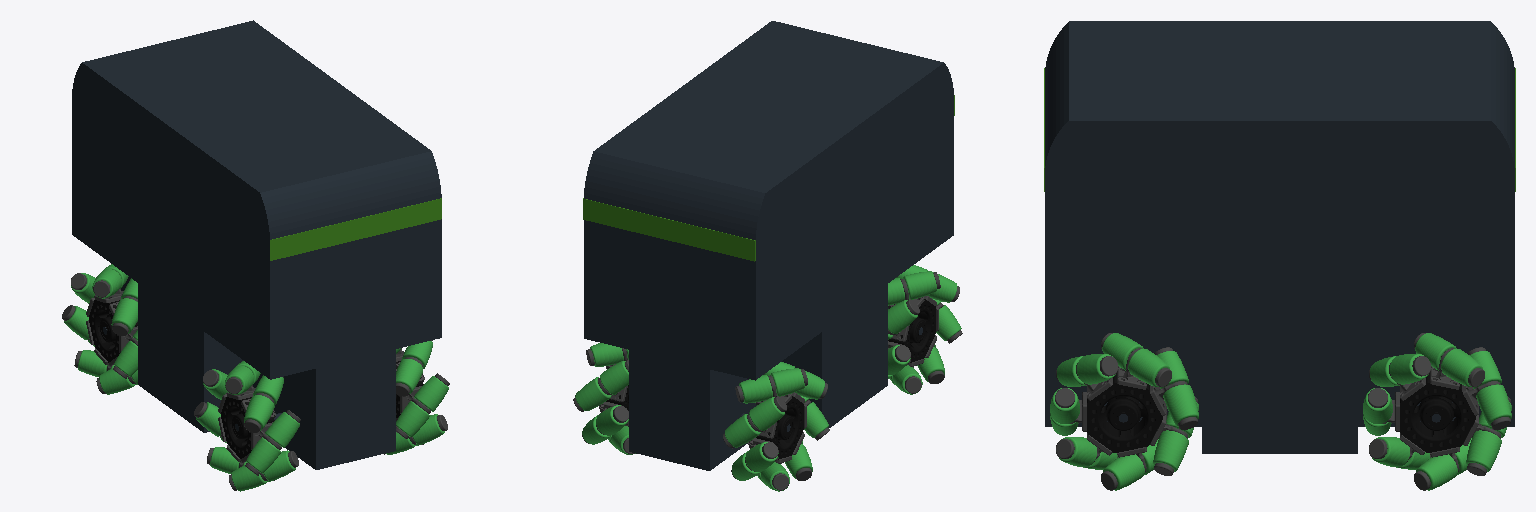
--- Render facts (derived) ---
The picture shows the robot from 3 angles, left to right: view 1: azimuth 30°, elevation 25°; view 2: azimuth 150°, elevation 25°; view 3: azimuth 270°, elevation 25°; orthographic projection.
Model agv with 2 links and 1 joints (1 fixed), rooted at part_1, posed every joint at zero.
Visible links, largest first — view 1: part_1; view 2: part_1; view 3: part_1.
Link boxes in pixels (x1,y1,x2,y2): part_1: (62,20,449,491); part_1: (573,21,962,491); part_1: (1044,21,1515,490).
Bounding box of the posed robot: 0.3536 × 0.6021 × 0.5161 m (x, y, z).
Meshes: 5 distinct files referenced, 91 mesh visuals loaded (5 binary STL).

URDF robot description (agv):
<?xml version="1.0"?>
<robot name="agv">
<link name="part_1">
<visual>
<origin xyz="0.279374 0.506048 0.0846503" rpy="0 -2.22045e-16 0" />
<geometry>
<mesh filename="package://hc10_with_hand/meshes/agv/ow1_mainwheel.stl"/>
</geometry>
<material name="ow1_mainwheel_material">
<color rgba="0.101961 0.101961 0.101961 1.0"/>
</material>
</visual>
<collision>
<origin xyz="0.279374 0.506048 0.0846503" rpy="0 -2.22045e-16 0" />
<geometry>
<mesh filename="package://hc10_with_hand/meshes/agv/ow1_mainwheel.stl"/>
</geometry>
<material name="ow1_mainwheel_material">
<color rgba="0.101961 0.101961 0.101961 1.0"/>
</material>
</collision>
<visual>
<origin xyz="0.0190616 0.147628 0.104674" rpy="1.5708 1.122 1.5708" />
<geometry>
<mesh filename="package://hc10_with_hand/meshes/agv/ow1_subaxle.stl"/>
</geometry>
<material name="ow1_subaxle_material">
<color rgba="0.301961 0.301961 0.301961 1.0"/>
</material>
</visual>
<collision>
<origin xyz="0.0190616 0.147628 0.104674" rpy="1.5708 1.122 1.5708" />
<geometry>
<mesh filename="package://hc10_with_hand/meshes/agv/ow1_subaxle.stl"/>
</geometry>
<material name="ow1_subaxle_material">
<color rgba="0.301961 0.301961 0.301961 1.0"/>
</material>
</collision>
<visual>
<origin xyz="0.00689419 0.431336 0.0724829" rpy="6.43508e-15 0.785398 -3.14159" />
<geometry>
<mesh filename="package://hc10_with_hand/meshes/agv/ow1_roller.stl"/>
</geometry>
<material name="ow1_roller_material">
<color rgba="0.286275 0.662745 0.329412 1.0"/>
</material>
</visual>
<collision>
<origin xyz="0.00689419 0.431336 0.0724829" rpy="6.43508e-15 0.785398 -3.14159" />
<geometry>
<mesh filename="package://hc10_with_hand/meshes/agv/ow1_roller.stl"/>
</geometry>
<material name="ow1_roller_material">
<color rgba="0.286275 0.662745 0.329412 1.0"/>
</material>
</collision>
<visual>
<origin xyz="0.279374 0.116318 0.0396567" rpy="-1.5708 -0.224399 1.5708" />
<geometry>
<mesh filename="package://hc10_with_hand/meshes/agv/ow1_subaxle.stl"/>
</geometry>
<material name="ow1_subaxle_material">
<color rgba="0.301961 0.301961 0.301961 1.0"/>
</material>
</visual>
<collision>
<origin xyz="0.279374 0.116318 0.0396567" rpy="-1.5708 -0.224399 1.5708" />
<geometry>
<mesh filename="package://hc10_with_hand/meshes/agv/ow1_subaxle.stl"/>
</geometry>
<material name="ow1_subaxle_material">
<color rgba="0.301961 0.301961 0.301961 1.0"/>
</material>
</collision>
<visual>
<origin xyz="0.00689419 0.0689786 0.0186516" rpy="-1.05734 0.456572 2.47803" />
<geometry>
<mesh filename="package://hc10_with_hand/meshes/agv/ow1_roller.stl"/>
</geometry>
<material name="ow1_roller_material">
<color rgba="0.286275 0.662745 0.329412 1.0"/>
</material>
</visual>
<collision>
<origin xyz="0.00689419 0.0689786 0.0186516" rpy="-1.05734 0.456572 2.47803" />
<geometry>
<mesh filename="package://hc10_with_hand/meshes/agv/ow1_roller.stl"/>
</geometry>
<material name="ow1_roller_material">
<color rgba="0.286275 0.662745 0.329412 1.0"/>
</material>
</collision>
<visual>
<origin xyz="0.031229 0.468979 0.150649" rpy="2.08425 -0.456572 0.663564" />
<geometry>
<mesh filename="package://hc10_with_hand/meshes/agv/ow1_roller.stl"/>
</geometry>
<material name="ow1_roller_material">
<color rgba="0.286275 0.662745 0.329412 1.0"/>
</material>
</visual>
<collision>
<origin xyz="0.031229 0.468979 0.150649" rpy="2.08425 -0.456572 0.663564" />
<geometry>
<mesh filename="package://hc10_with_hand/meshes/agv/ow1_roller.stl"/>
</geometry>
<material name="ow1_roller_material">
<color rgba="0.286275 0.662745 0.329412 1.0"/>
</material>
</collision>
<visual>
<origin xyz="0.031229 0.578641 0.106104" rpy="0.597894 0.690706 0.409371" />
<geometry>
<mesh filename="package://hc10_with_hand/meshes/agv/ow1_roller.stl"/>
</geometry>
<material name="ow1_roller_material">
<color rgba="0.286275 0.662745 0.329412 1.0"/>
</material>
</visual>
<collision>
<origin xyz="0.031229 0.578641 0.106104" rpy="0.597894 0.690706 0.409371" />
<geometry>
<mesh filename="package://hc10_with_hand/meshes/agv/ow1_roller.stl"/>
</geometry>
<material name="ow1_roller_material">
<color rgba="0.286275 0.662745 0.329412 1.0"/>
</material>
</collision>
<visual>
<origin xyz="0.267207 0.110811 0.160197" rpy="1.73081 -0.158003 -2.36889" />
<geometry>
<mesh filename="package://hc10_with_hand/meshes/agv/ow1_roller.stl"/>
</geometry>
<material name="ow1_roller_material">
<color rgba="0.286275 0.662745 0.329412 1.0"/>
</material>
</visual>
<collision>
<origin xyz="0.267207 0.110811 0.160197" rpy="1.73081 -0.158003 -2.36889" />
<geometry>
<mesh filename="package://hc10_with_hand/meshes/agv/ow1_roller.stl"/>
</geometry>
<material name="ow1_roller_material">
<color rgba="0.286275 0.662745 0.329412 1.0"/>
</material>
</collision>
<visual>
<origin xyz="0.0190616 0.116318 0.0396567" rpy="-1.5708 -0.224399 1.5708" />
<geometry>
<mesh filename="package://hc10_with_hand/meshes/agv/ow1_subaxle.stl"/>
</geometry>
<material name="ow1_subaxle_material">
<color rgba="0.301961 0.301961 0.301961 1.0"/>
</material>
</visual>
<collision>
<origin xyz="0.0190616 0.116318 0.0396567" rpy="-1.5708 -0.224399 1.5708" />
<geometry>
<mesh filename="package://hc10_with_hand/meshes/agv/ow1_subaxle.stl"/>
</geometry>
<material name="ow1_subaxle_material">
<color rgba="0.301961 0.301961 0.301961 1.0"/>
</material>
</collision>
<visual>
<origin xyz="0.0190616 0.506048 0.0846503" rpy="0 2.22045e-16 0" />
<geometry>
<mesh filename="package://hc10_with_hand/meshes/agv/ow1_mainwheel.stl"/>
</geometry>
<material name="ow1_mainwheel_material">
<color rgba="0.101961 0.101961 0.101961 1.0"/>
</material>
</visual>
<collision>
<origin xyz="0.0190616 0.506048 0.0846503" rpy="0 2.22045e-16 0" />
<geometry>
<mesh filename="package://hc10_with_hand/meshes/agv/ow1_mainwheel.stl"/>
</geometry>
<material name="ow1_mainwheel_material">
<color rgba="0.101961 0.101961 0.101961 1.0"/>
</material>
</collision>
<visual>
<origin xyz="0.031229 0.0499529 0.0338241" rpy="-2.08425 -0.456572 -0.663564" />
<geometry>
<mesh filename="package://hc10_with_hand/meshes/agv/ow1_roller.stl"/>
</geometry>
<material name="ow1_roller_material">
<color rgba="0.286275 0.662745 0.329412 1.0"/>
</material>
</visual>
<collision>
<origin xyz="0.031229 0.0499529 0.0338241" rpy="-2.08425 -0.456572 -0.663564" />
<geometry>
<mesh filename="package://hc10_with_hand/meshes/agv/ow1_roller.stl"/>
</geometry>
<material name="ow1_roller_material">
<color rgba="0.286275 0.662745 0.329412 1.0"/>
</material>
</collision>
<visual>
<origin xyz="0.031229 0.431336 0.0968177" rpy="-3.14159 -0.785398 -9.10058e-15" />
<geometry>
<mesh filename="package://hc10_with_hand/meshes/agv/ow1_roller.stl"/>
</geometry>
<material name="ow1_roller_material">
<color rgba="0.286275 0.662745 0.329412 1.0"/>
</material>
</visual>
<collision>
<origin xyz="0.031229 0.431336 0.0968177" rpy="-3.14159 -0.785398 -9.10058e-15" />
<geometry>
<mesh filename="package://hc10_with_hand/meshes/agv/ow1_roller.stl"/>
</geometry>
<material name="ow1_roller_material">
<color rgba="0.286275 0.662745 0.329412 1.0"/>
</material>
</collision>
<visual>
<origin xyz="0.00689419 0.110811 0.160197" rpy="1.73081 -0.158003 -2.36889" />
<geometry>
<mesh filename="package://hc10_with_hand/meshes/agv/ow1_roller.stl"/>
</geometry>
<material name="ow1_roller_material">
<color rgba="0.286275 0.662745 0.329412 1.0"/>
</material>
</visual>
<collision>
<origin xyz="0.00689419 0.110811 0.160197" rpy="1.73081 -0.158003 -2.36889" />
<geometry>
<mesh filename="package://hc10_with_hand/meshes/agv/ow1_roller.stl"/>
</geometry>
<material name="ow1_roller_material">
<color rgba="0.286275 0.662745 0.329412 1.0"/>
</material>
</collision>
<visual>
<origin xyz="0.291541 0.0499529 0.0338241" rpy="-2.08425 -0.456572 -0.663564" />
<geometry>
<mesh filename="package://hc10_with_hand/meshes/agv/ow1_roller.stl"/>
</geometry>
<material name="ow1_roller_material">
<color rgba="0.286275 0.662745 0.329412 1.0"/>
</material>
</visual>
<collision>
<origin xyz="0.291541 0.0499529 0.0338241" rpy="-2.08425 -0.456572 -0.663564" />
<geometry>
<mesh filename="package://hc10_with_hand/meshes/agv/ow1_roller.stl"/>
</geometry>
<material name="ow1_roller_material">
<color rgba="0.286275 0.662745 0.329412 1.0"/>
</material>
</collision>
<visual>
<origin xyz="0.0190616 0.147628 0.0646263" rpy="-1.5708 1.122 -1.5708" />
<geometry>
<mesh filename="package://hc10_with_hand/meshes/agv/ow1_subaxle.stl"/>
</geometry>
<material name="ow1_subaxle_material">
<color rgba="0.301961 0.301961 0.301961 1.0"/>
</material>
</visual>
<collision>
<origin xyz="0.0190616 0.147628 0.0646263" rpy="-1.5708 1.122 -1.5708" />
<geometry>
<mesh filename="package://hc10_with_hand/meshes/agv/ow1_subaxle.stl"/>
</geometry>
<material name="ow1_subaxle_material">
<color rgba="0.301961 0.301961 0.301961 1.0"/>
</material>
</collision>
<visual>
<origin xyz="0.279374 0.147628 0.104674" rpy="1.5708 1.122 1.5708" />
<geometry>
<mesh filename="package://hc10_with_hand/meshes/agv/ow1_subaxle.stl"/>
</geometry>
<material name="ow1_subaxle_material">
<color rgba="0.301961 0.301961 0.301961 1.0"/>
</material>
</visual>
<collision>
<origin xyz="0.279374 0.147628 0.104674" rpy="1.5708 1.122 1.5708" />
<geometry>
<mesh filename="package://hc10_with_hand/meshes/agv/ow1_subaxle.stl"/>
</geometry>
<material name="ow1_subaxle_material">
<color rgba="0.301961 0.301961 0.301961 1.0"/>
</material>
</collision>
<visual>
<origin xyz="0.00689419 0.168082 0.128029" rpy="2.5437 -0.690706 -2.73222" />
<geometry>
<mesh filename="package://hc10_with_hand/meshes/agv/ow1_roller.stl"/>
</geometry>
<material name="ow1_roller_material">
<color rgba="0.286275 0.662745 0.329412 1.0"/>
</material>
</visual>
<collision>
<origin xyz="0.00689419 0.168082 0.128029" rpy="2.5437 -0.690706 -2.73222" />
<geometry>
<mesh filename="package://hc10_with_hand/meshes/agv/ow1_roller.stl"/>
</geometry>
<material name="ow1_roller_material">
<color rgba="0.286275 0.662745 0.329412 1.0"/>
</material>
</collision>
<visual>
<origin xyz="0.267207 0.134536 0.0145187" rpy="-1.73081 -0.158003 2.36889" />
<geometry>
<mesh filename="package://hc10_with_hand/meshes/agv/ow1_roller.stl"/>
</geometry>
<material name="ow1_roller_material">
<color rgba="0.286275 0.662745 0.329412 1.0"/>
</material>
</visual>
<collision>
<origin xyz="0.267207 0.134536 0.0145187" rpy="-1.73081 -0.158003 2.36889" />
<geometry>
<mesh filename="package://hc10_with_hand/meshes/agv/ow1_roller.stl"/>
</geometry>
<material name="ow1_roller_material">
<color rgba="0.286275 0.662745 0.329412 1.0"/>
</material>
</collision>
<visual>
<origin xyz="0.291541 0.431336 0.0968177" rpy="-3.14159 -0.785398 -9.10058e-15" />
<geometry>
<mesh filename="package://hc10_with_hand/meshes/agv/ow1_roller.stl"/>
</geometry>
<material name="ow1_roller_material">
<color rgba="0.286275 0.662745 0.329412 1.0"/>
</material>
</visual>
<collision>
<origin xyz="0.291541 0.431336 0.0968177" rpy="-3.14159 -0.785398 -9.10058e-15" />
<geometry>
<mesh filename="package://hc10_with_hand/meshes/agv/ow1_roller.stl"/>
</geometry>
<material name="ow1_roller_material">
<color rgba="0.286275 0.662745 0.329412 1.0"/>
</material>
</collision>
<visual>
<origin xyz="0.0190616 0.477274 0.120732" rpy="1.5708 0.673198 -1.5708" />
<geometry>
<mesh filename="package://hc10_with_hand/meshes/agv/ow1_subaxle.stl"/>
</geometry>
<material name="ow1_subaxle_material">
<color rgba="0.301961 0.301961 0.301961 1.0"/>
</material>
</visual>
<collision>
<origin xyz="0.0190616 0.477274 0.120732" rpy="1.5708 0.673198 -1.5708" />
<geometry>
<mesh filename="package://hc10_with_hand/meshes/agv/ow1_subaxle.stl"/>
</geometry>
<material name="ow1_subaxle_material">
<color rgba="0.301961 0.301961 0.301961 1.0"/>
</material>
</collision>
<visual>
<origin xyz="0.149218 0.00604812 0.00465032" rpy="0 -0 0" />
<geometry>
<mesh filename="package://hc10_with_hand/meshes/agv/part_1.stl"/>
</geometry>
<material name="part_1_material">
<color rgba="0.180392 0.215686 0.247059 1.0"/>
</material>
</visual>
<collision>
<origin xyz="0.149218 0.00604812 0.00465032" rpy="0 -0 0" />
<geometry>
<mesh filename="package://hc10_with_hand/meshes/agv/part_1.stl"/>
</geometry>
<material name="part_1_material">
<color rgba="0.180392 0.215686 0.247059 1.0"/>
</material>
</collision>
<visual>
<origin xyz="0.267207 0.168082 0.128029" rpy="2.5437 -0.690706 -2.73222" />
<geometry>
<mesh filename="package://hc10_with_hand/meshes/agv/ow1_roller.stl"/>
</geometry>
<material name="ow1_roller_material">
<color rgba="0.286275 0.662745 0.329412 1.0"/>
</material>
</visual>
<collision>
<origin xyz="0.267207 0.168082 0.128029" rpy="2.5437 -0.690706 -2.73222" />
<geometry>
<mesh filename="package://hc10_with_hand/meshes/agv/ow1_roller.stl"/>
</geometry>
<material name="ow1_roller_material">
<color rgba="0.286275 0.662745 0.329412 1.0"/>
</material>
</collision>
<visual>
<origin xyz="0.0190616 0.516318 0.129644" rpy="1.5708 0.224399 1.5708" />
<geometry>
<mesh filename="package://hc10_with_hand/meshes/agv/ow1_subaxle.stl"/>
</geometry>
<material name="ow1_subaxle_material">
<color rgba="0.301961 0.301961 0.301961 1.0"/>
</material>
</visual>
<collision>
<origin xyz="0.0190616 0.516318 0.129644" rpy="1.5708 0.224399 1.5708" />
<geometry>
<mesh filename="package://hc10_with_hand/meshes/agv/ow1_subaxle.stl"/>
</geometry>
<material name="ow1_subaxle_material">
<color rgba="0.301961 0.301961 0.301961 1.0"/>
</material>
</collision>
<visual>
<origin xyz="0.031229 0.534536 0.154782" rpy="1.41078 0.158003 0.772704" />
<geometry>
<mesh filename="package://hc10_with_hand/meshes/agv/ow1_roller.stl"/>
</geometry>
<material name="ow1_roller_material">
<color rgba="0.286275 0.662745 0.329412 1.0"/>
</material>
</visual>
<collision>
<origin xyz="0.031229 0.534536 0.154782" rpy="1.41078 0.158003 0.772704" />
<geometry>
<mesh filename="package://hc10_with_hand/meshes/agv/ow1_roller.stl"/>
</geometry>
<material name="ow1_roller_material">
<color rgba="0.286275 0.662745 0.329412 1.0"/>
</material>
</collision>
<visual>
<origin xyz="0.00689419 0.449953 0.135477" rpy="1.05734 0.456572 -2.47803" />
<geometry>
<mesh filename="package://hc10_with_hand/meshes/agv/ow1_roller.stl"/>
</geometry>
<material name="ow1_roller_material">
<color rgba="0.286275 0.662745 0.329412 1.0"/>
</material>
</visual>
<collision>
<origin xyz="0.00689419 0.449953 0.135477" rpy="1.05734 0.456572 -2.47803" />
<geometry>
<mesh filename="package://hc10_with_hand/meshes/agv/ow1_roller.stl"/>
</geometry>
<material name="ow1_roller_material">
<color rgba="0.286275 0.662745 0.329412 1.0"/>
</material>
</collision>
<visual>
<origin xyz="0.00689419 0.578641 0.0631963" rpy="-2.5437 -0.690706 2.73222" />
<geometry>
<mesh filename="package://hc10_with_hand/meshes/agv/ow1_roller.stl"/>
</geometry>
<material name="ow1_roller_material">
<color rgba="0.286275 0.662745 0.329412 1.0"/>
</material>
</visual>
<collision>
<origin xyz="0.00689419 0.578641 0.0631963" rpy="-2.5437 -0.690706 2.73222" />
<geometry>
<mesh filename="package://hc10_with_hand/meshes/agv/ow1_roller.stl"/>
</geometry>
<material name="ow1_roller_material">
<color rgba="0.286275 0.662745 0.329412 1.0"/>
</material>
</collision>
<visual>
<origin xyz="0.267207 0.578641 0.0631963" rpy="-2.5437 -0.690706 2.73222" />
<geometry>
<mesh filename="package://hc10_with_hand/meshes/agv/ow1_roller.stl"/>
</geometry>
<material name="ow1_roller_material">
<color rgba="0.286275 0.662745 0.329412 1.0"/>
</material>
</visual>
<collision>
<origin xyz="0.267207 0.578641 0.0631963" rpy="-2.5437 -0.690706 2.73222" />
<geometry>
<mesh filename="package://hc10_with_hand/meshes/agv/ow1_roller.stl"/>
</geometry>
<material name="ow1_roller_material">
<color rgba="0.286275 0.662745 0.329412 1.0"/>
</material>
</collision>
<visual>
<origin xyz="0.267207 0.449953 0.135477" rpy="1.05734 0.456572 -2.47803" />
<geometry>
<mesh filename="package://hc10_with_hand/meshes/agv/ow1_roller.stl"/>
</geometry>
<material name="ow1_roller_material">
<color rgba="0.286275 0.662745 0.329412 1.0"/>
</material>
</visual>
<collision>
<origin xyz="0.267207 0.449953 0.135477" rpy="1.05734 0.456572 -2.47803" />
<geometry>
<mesh filename="package://hc10_with_hand/meshes/agv/ow1_roller.stl"/>
</geometry>
<material name="ow1_roller_material">
<color rgba="0.286275 0.662745 0.329412 1.0"/>
</material>
</collision>
<visual>
<origin xyz="0.267207 0.431336 0.0724829" rpy="6.43508e-15 0.785398 -3.14159" />
<geometry>
<mesh filename="package://hc10_with_hand/meshes/agv/ow1_roller.stl"/>
</geometry>
<material name="ow1_roller_material">
<color rgba="0.286275 0.662745 0.329412 1.0"/>
</material>
</visual>
<collision>
<origin xyz="0.267207 0.431336 0.0724829" rpy="6.43508e-15 0.785398 -3.14159" />
<geometry>
<mesh filename="package://hc10_with_hand/meshes/agv/ow1_roller.stl"/>
</geometry>
<material name="ow1_roller_material">
<color rgba="0.286275 0.662745 0.329412 1.0"/>
</material>
</collision>
<visual>
<origin xyz="0.291541 0.534536 0.154782" rpy="1.41078 0.158003 0.772704" />
<geometry>
<mesh filename="package://hc10_with_hand/meshes/agv/ow1_roller.stl"/>
</geometry>
<material name="ow1_roller_material">
<color rgba="0.286275 0.662745 0.329412 1.0"/>
</material>
</visual>
<collision>
<origin xyz="0.291541 0.534536 0.154782" rpy="1.41078 0.158003 0.772704" />
<geometry>
<mesh filename="package://hc10_with_hand/meshes/agv/ow1_roller.stl"/>
</geometry>
<material name="ow1_roller_material">
<color rgba="0.286275 0.662745 0.329412 1.0"/>
</material>
</collision>
<visual>
<origin xyz="0.149218 0.607148 0.00465032" rpy="0 -0 0" />
<geometry>
<mesh filename="package://hc10_with_hand/meshes/agv/part_2.stl"/>
</geometry>
<material name="part_2_material">
<color rgba="0.282353 0.54902 0.160784 1.0"/>
</material>
</visual>
<collision>
<origin xyz="0.149218 0.607148 0.00465032" rpy="0 -0 0" />
<geometry>
<mesh filename="package://hc10_with_hand/meshes/agv/part_2.stl"/>
</geometry>
<material name="part_2_material">
<color rgba="0.282353 0.54902 0.160784 1.0"/>
</material>
</collision>
<visual>
<origin xyz="0.279374 0.116318 0.129644" rpy="1.5708 0.224399 1.5708" />
<geometry>
<mesh filename="package://hc10_with_hand/meshes/agv/ow1_subaxle.stl"/>
</geometry>
<material name="ow1_subaxle_material">
<color rgba="0.301961 0.301961 0.301961 1.0"/>
</material>
</visual>
<collision>
<origin xyz="0.279374 0.116318 0.129644" rpy="1.5708 0.224399 1.5708" />
<geometry>
<mesh filename="package://hc10_with_hand/meshes/agv/ow1_subaxle.stl"/>
</geometry>
<material name="ow1_subaxle_material">
<color rgba="0.301961 0.301961 0.301961 1.0"/>
</material>
</collision>
<visual>
<origin xyz="0.279374 0.477274 0.120732" rpy="1.5708 0.673198 -1.5708" />
<geometry>
<mesh filename="package://hc10_with_hand/meshes/agv/ow1_subaxle.stl"/>
</geometry>
<material name="ow1_subaxle_material">
<color rgba="0.301961 0.301961 0.301961 1.0"/>
</material>
</visual>
<collision>
<origin xyz="0.279374 0.477274 0.120732" rpy="1.5708 0.673198 -1.5708" />
<geometry>
<mesh filename="package://hc10_with_hand/meshes/agv/ow1_subaxle.stl"/>
</geometry>
<material name="ow1_subaxle_material">
<color rgba="0.301961 0.301961 0.301961 1.0"/>
</material>
</collision>
<visual>
<origin xyz="0.031229 0.0313358 0.0968177" rpy="-3.14159 -0.785398 -9.10058e-15" />
<geometry>
<mesh filename="package://hc10_with_hand/meshes/agv/ow1_roller.stl"/>
</geometry>
<material name="ow1_roller_material">
<color rgba="0.286275 0.662745 0.329412 1.0"/>
</material>
</visual>
<collision>
<origin xyz="0.031229 0.0313358 0.0968177" rpy="-3.14159 -0.785398 -9.10058e-15" />
<geometry>
<mesh filename="package://hc10_with_hand/meshes/agv/ow1_roller.stl"/>
</geometry>
<material name="ow1_roller_material">
<color rgba="0.286275 0.662745 0.329412 1.0"/>
</material>
</collision>
<visual>
<origin xyz="0.0190616 0.547628 0.0646263" rpy="-1.5708 1.122 -1.5708" />
<geometry>
<mesh filename="package://hc10_with_hand/meshes/agv/ow1_subaxle.stl"/>
</geometry>
<material name="ow1_subaxle_material">
<color rgba="0.301961 0.301961 0.301961 1.0"/>
</material>
</visual>
<collision>
<origin xyz="0.0190616 0.547628 0.0646263" rpy="-1.5708 1.122 -1.5708" />
<geometry>
<mesh filename="package://hc10_with_hand/meshes/agv/ow1_subaxle.stl"/>
</geometry>
<material name="ow1_subaxle_material">
<color rgba="0.301961 0.301961 0.301961 1.0"/>
</material>
</collision>
<visual>
<origin xyz="0.031229 0.110811 0.00910365" rpy="-1.41078 0.158003 -0.772704" />
<geometry>
<mesh filename="package://hc10_with_hand/meshes/agv/ow1_roller.stl"/>
</geometry>
<material name="ow1_roller_material">
<color rgba="0.286275 0.662745 0.329412 1.0"/>
</material>
</visual>
<collision>
<origin xyz="0.031229 0.110811 0.00910365" rpy="-1.41078 0.158003 -0.772704" />
<geometry>
<mesh filename="package://hc10_with_hand/meshes/agv/ow1_roller.stl"/>
</geometry>
<material name="ow1_roller_material">
<color rgba="0.286275 0.662745 0.329412 1.0"/>
</material>
</collision>
<visual>
<origin xyz="0.291541 0.134536 0.154782" rpy="1.41078 0.158003 0.772704" />
<geometry>
<mesh filename="package://hc10_with_hand/meshes/agv/ow1_roller.stl"/>
</geometry>
<material name="ow1_roller_material">
<color rgba="0.286275 0.662745 0.329412 1.0"/>
</material>
</visual>
<collision>
<origin xyz="0.291541 0.134536 0.154782" rpy="1.41078 0.158003 0.772704" />
<geometry>
<mesh filename="package://hc10_with_hand/meshes/agv/ow1_roller.stl"/>
</geometry>
<material name="ow1_roller_material">
<color rgba="0.286275 0.662745 0.329412 1.0"/>
</material>
</collision>
<visual>
<origin xyz="0.031229 0.0689786 0.150649" rpy="2.08425 -0.456572 0.663564" />
<geometry>
<mesh filename="package://hc10_with_hand/meshes/agv/ow1_roller.stl"/>
</geometry>
<material name="ow1_roller_material">
<color rgba="0.286275 0.662745 0.329412 1.0"/>
</material>
</visual>
<collision>
<origin xyz="0.031229 0.0689786 0.150649" rpy="2.08425 -0.456572 0.663564" />
<geometry>
<mesh filename="package://hc10_with_hand/meshes/agv/ow1_roller.stl"/>
</geometry>
<material name="ow1_roller_material">
<color rgba="0.286275 0.662745 0.329412 1.0"/>
</material>
</collision>
<visual>
<origin xyz="0.00689419 0.0313358 0.0724829" rpy="6.43508e-15 0.785398 -3.14159" />
<geometry>
<mesh filename="package://hc10_with_hand/meshes/agv/ow1_roller.stl"/>
</geometry>
<material name="ow1_roller_material">
<color rgba="0.286275 0.662745 0.329412 1.0"/>
</material>
</visual>
<collision>
<origin xyz="0.00689419 0.0313358 0.0724829" rpy="6.43508e-15 0.785398 -3.14159" />
<geometry>
<mesh filename="package://hc10_with_hand/meshes/agv/ow1_roller.stl"/>
</geometry>
<material name="ow1_roller_material">
<color rgba="0.286275 0.662745 0.329412 1.0"/>
</material>
</collision>
<visual>
<origin xyz="0.291541 0.110811 0.00910365" rpy="-1.41078 0.158003 -0.772704" />
<geometry>
<mesh filename="package://hc10_with_hand/meshes/agv/ow1_roller.stl"/>
</geometry>
<material name="ow1_roller_material">
<color rgba="0.286275 0.662745 0.329412 1.0"/>
</material>
</visual>
<collision>
<origin xyz="0.291541 0.110811 0.00910365" rpy="-1.41078 0.158003 -0.772704" />
<geometry>
<mesh filename="package://hc10_with_hand/meshes/agv/ow1_roller.stl"/>
</geometry>
<material name="ow1_roller_material">
<color rgba="0.286275 0.662745 0.329412 1.0"/>
</material>
</collision>
<visual>
<origin xyz="0.0190616 0.477274 0.0485683" rpy="-1.5708 -0.673198 -1.5708" />
<geometry>
<mesh filename="package://hc10_with_hand/meshes/agv/ow1_subaxle.stl"/>
</geometry>
<material name="ow1_subaxle_material">
<color rgba="0.301961 0.301961 0.301961 1.0"/>
</material>
</visual>
<collision>
<origin xyz="0.0190616 0.477274 0.0485683" rpy="-1.5708 -0.673198 -1.5708" />
<geometry>
<mesh filename="package://hc10_with_hand/meshes/agv/ow1_subaxle.stl"/>
</geometry>
<material name="ow1_subaxle_material">
<color rgba="0.301961 0.301961 0.301961 1.0"/>
</material>
</collision>
<visual>
<origin xyz="0.267207 0.0689786 0.0186516" rpy="-1.05734 0.456572 2.47803" />
<geometry>
<mesh filename="package://hc10_with_hand/meshes/agv/ow1_roller.stl"/>
</geometry>
<material name="ow1_roller_material">
<color rgba="0.286275 0.662745 0.329412 1.0"/>
</material>
</visual>
<collision>
<origin xyz="0.267207 0.0689786 0.0186516" rpy="-1.05734 0.456572 2.47803" />
<geometry>
<mesh filename="package://hc10_with_hand/meshes/agv/ow1_roller.stl"/>
</geometry>
<material name="ow1_roller_material">
<color rgba="0.286275 0.662745 0.329412 1.0"/>
</material>
</collision>
<visual>
<origin xyz="0.279374 0.547628 0.104674" rpy="1.5708 1.122 1.5708" />
<geometry>
<mesh filename="package://hc10_with_hand/meshes/agv/ow1_subaxle.stl"/>
</geometry>
<material name="ow1_subaxle_material">
<color rgba="0.301961 0.301961 0.301961 1.0"/>
</material>
</visual>
<collision>
<origin xyz="0.279374 0.547628 0.104674" rpy="1.5708 1.122 1.5708" />
<geometry>
<mesh filename="package://hc10_with_hand/meshes/agv/ow1_subaxle.stl"/>
</geometry>
<material name="ow1_subaxle_material">
<color rgba="0.301961 0.301961 0.301961 1.0"/>
</material>
</collision>
<visual>
<origin xyz="0.267207 0.468979 0.0186516" rpy="-1.05734 0.456572 2.47803" />
<geometry>
<mesh filename="package://hc10_with_hand/meshes/agv/ow1_roller.stl"/>
</geometry>
<material name="ow1_roller_material">
<color rgba="0.286275 0.662745 0.329412 1.0"/>
</material>
</visual>
<collision>
<origin xyz="0.267207 0.468979 0.0186516" rpy="-1.05734 0.456572 2.47803" />
<geometry>
<mesh filename="package://hc10_with_hand/meshes/agv/ow1_roller.stl"/>
</geometry>
<material name="ow1_roller_material">
<color rgba="0.286275 0.662745 0.329412 1.0"/>
</material>
</collision>
<visual>
<origin xyz="0.291541 0.510811 0.00910365" rpy="-1.41078 0.158003 -0.772704" />
<geometry>
<mesh filename="package://hc10_with_hand/meshes/agv/ow1_roller.stl"/>
</geometry>
<material name="ow1_roller_material">
<color rgba="0.286275 0.662745 0.329412 1.0"/>
</material>
</visual>
<collision>
<origin xyz="0.291541 0.510811 0.00910365" rpy="-1.41078 0.158003 -0.772704" />
<geometry>
<mesh filename="package://hc10_with_hand/meshes/agv/ow1_roller.stl"/>
</geometry>
<material name="ow1_roller_material">
<color rgba="0.286275 0.662745 0.329412 1.0"/>
</material>
</collision>
<visual>
<origin xyz="0.031229 0.568082 0.0412714" rpy="-0.597894 0.690706 -0.409371" />
<geometry>
<mesh filename="package://hc10_with_hand/meshes/agv/ow1_roller.stl"/>
</geometry>
<material name="ow1_roller_material">
<color rgba="0.286275 0.662745 0.329412 1.0"/>
</material>
</visual>
<collision>
<origin xyz="0.031229 0.568082 0.0412714" rpy="-0.597894 0.690706 -0.409371" />
<geometry>
<mesh filename="package://hc10_with_hand/meshes/agv/ow1_roller.stl"/>
</geometry>
<material name="ow1_roller_material">
<color rgba="0.286275 0.662745 0.329412 1.0"/>
</material>
</collision>
<visual>
<origin xyz="0.0190616 0.516318 0.0396567" rpy="-1.5708 -0.224399 1.5708" />
<geometry>
<mesh filename="package://hc10_with_hand/meshes/agv/ow1_subaxle.stl"/>
</geometry>
<material name="ow1_subaxle_material">
<color rgba="0.301961 0.301961 0.301961 1.0"/>
</material>
</visual>
<collision>
<origin xyz="0.0190616 0.516318 0.0396567" rpy="-1.5708 -0.224399 1.5708" />
<geometry>
<mesh filename="package://hc10_with_hand/meshes/agv/ow1_subaxle.stl"/>
</geometry>
<material name="ow1_subaxle_material">
<color rgba="0.301961 0.301961 0.301961 1.0"/>
</material>
</collision>
<visual>
<origin xyz="0.291541 0.468979 0.150649" rpy="2.08425 -0.456572 0.663564" />
<geometry>
<mesh filename="package://hc10_with_hand/meshes/agv/ow1_roller.stl"/>
</geometry>
<material name="ow1_roller_material">
<color rgba="0.286275 0.662745 0.329412 1.0"/>
</material>
</visual>
<collision>
<origin xyz="0.291541 0.468979 0.150649" rpy="2.08425 -0.456572 0.663564" />
<geometry>
<mesh filename="package://hc10_with_hand/meshes/agv/ow1_roller.stl"/>
</geometry>
<material name="ow1_roller_material">
<color rgba="0.286275 0.662745 0.329412 1.0"/>
</material>
</collision>
<visual>
<origin xyz="0.291541 0.0689786 0.150649" rpy="2.08425 -0.456572 0.663564" />
<geometry>
<mesh filename="package://hc10_with_hand/meshes/agv/ow1_roller.stl"/>
</geometry>
<material name="ow1_roller_material">
<color rgba="0.286275 0.662745 0.329412 1.0"/>
</material>
</visual>
<collision>
<origin xyz="0.291541 0.0689786 0.150649" rpy="2.08425 -0.456572 0.663564" />
<geometry>
<mesh filename="package://hc10_with_hand/meshes/agv/ow1_roller.stl"/>
</geometry>
<material name="ow1_roller_material">
<color rgba="0.286275 0.662745 0.329412 1.0"/>
</material>
</collision>
<visual>
<origin xyz="0.0190616 0.459897 0.0846503" rpy="-3.14159 -1.5708 0" />
<geometry>
<mesh filename="package://hc10_with_hand/meshes/agv/ow1_subaxle.stl"/>
</geometry>
<material name="ow1_subaxle_material">
<color rgba="0.301961 0.301961 0.301961 1.0"/>
</material>
</visual>
<collision>
<origin xyz="0.0190616 0.459897 0.0846503" rpy="-3.14159 -1.5708 0" />
<geometry>
<mesh filename="package://hc10_with_hand/meshes/agv/ow1_subaxle.stl"/>
</geometry>
<material name="ow1_subaxle_material">
<color rgba="0.301961 0.301961 0.301961 1.0"/>
</material>
</collision>
<visual>
<origin xyz="0.00689419 0.534536 0.0145187" rpy="-1.73081 -0.158003 2.36889" />
<geometry>
<mesh filename="package://hc10_with_hand/meshes/agv/ow1_roller.stl"/>
</geometry>
<material name="ow1_roller_material">
<color rgba="0.286275 0.662745 0.329412 1.0"/>
</material>
</visual>
<collision>
<origin xyz="0.00689419 0.534536 0.0145187" rpy="-1.73081 -0.158003 2.36889" />
<geometry>
<mesh filename="package://hc10_with_hand/meshes/agv/ow1_roller.stl"/>
</geometry>
<material name="ow1_roller_material">
<color rgba="0.286275 0.662745 0.329412 1.0"/>
</material>
</collision>
<visual>
<origin xyz="0.279374 0.0772736 0.120732" rpy="1.5708 0.673198 -1.5708" />
<geometry>
<mesh filename="package://hc10_with_hand/meshes/agv/ow1_subaxle.stl"/>
</geometry>
<material name="ow1_subaxle_material">
<color rgba="0.301961 0.301961 0.301961 1.0"/>
</material>
</visual>
<collision>
<origin xyz="0.279374 0.0772736 0.120732" rpy="1.5708 0.673198 -1.5708" />
<geometry>
<mesh filename="package://hc10_with_hand/meshes/agv/ow1_subaxle.stl"/>
</geometry>
<material name="ow1_subaxle_material">
<color rgba="0.301961 0.301961 0.301961 1.0"/>
</material>
</collision>
<visual>
<origin xyz="0.267207 0.0499529 0.135477" rpy="1.05734 0.456572 -2.47803" />
<geometry>
<mesh filename="package://hc10_with_hand/meshes/agv/ow1_roller.stl"/>
</geometry>
<material name="ow1_roller_material">
<color rgba="0.286275 0.662745 0.329412 1.0"/>
</material>
</visual>
<collision>
<origin xyz="0.267207 0.0499529 0.135477" rpy="1.05734 0.456572 -2.47803" />
<geometry>
<mesh filename="package://hc10_with_hand/meshes/agv/ow1_roller.stl"/>
</geometry>
<material name="ow1_roller_material">
<color rgba="0.286275 0.662745 0.329412 1.0"/>
</material>
</collision>
<visual>
<origin xyz="0.00689419 0.0499529 0.135477" rpy="1.05734 0.456572 -2.47803" />
<geometry>
<mesh filename="package://hc10_with_hand/meshes/agv/ow1_roller.stl"/>
</geometry>
<material name="ow1_roller_material">
<color rgba="0.286275 0.662745 0.329412 1.0"/>
</material>
</visual>
<collision>
<origin xyz="0.00689419 0.0499529 0.135477" rpy="1.05734 0.456572 -2.47803" />
<geometry>
<mesh filename="package://hc10_with_hand/meshes/agv/ow1_roller.stl"/>
</geometry>
<material name="ow1_roller_material">
<color rgba="0.286275 0.662745 0.329412 1.0"/>
</material>
</collision>
<visual>
<origin xyz="0.00689419 0.178641 0.0631963" rpy="-2.5437 -0.690706 2.73222" />
<geometry>
<mesh filename="package://hc10_with_hand/meshes/agv/ow1_roller.stl"/>
</geometry>
<material name="ow1_roller_material">
<color rgba="0.286275 0.662745 0.329412 1.0"/>
</material>
</visual>
<collision>
<origin xyz="0.00689419 0.178641 0.0631963" rpy="-2.5437 -0.690706 2.73222" />
<geometry>
<mesh filename="package://hc10_with_hand/meshes/agv/ow1_roller.stl"/>
</geometry>
<material name="ow1_roller_material">
<color rgba="0.286275 0.662745 0.329412 1.0"/>
</material>
</collision>
<visual>
<origin xyz="0.0190616 0.0598974 0.0846503" rpy="-3.14159 -1.5708 0" />
<geometry>
<mesh filename="package://hc10_with_hand/meshes/agv/ow1_subaxle.stl"/>
</geometry>
<material name="ow1_subaxle_material">
<color rgba="0.301961 0.301961 0.301961 1.0"/>
</material>
</visual>
<collision>
<origin xyz="0.0190616 0.0598974 0.0846503" rpy="-3.14159 -1.5708 0" />
<geometry>
<mesh filename="package://hc10_with_hand/meshes/agv/ow1_subaxle.stl"/>
</geometry>
<material name="ow1_subaxle_material">
<color rgba="0.301961 0.301961 0.301961 1.0"/>
</material>
</collision>
<visual>
<origin xyz="0.279374 0.0598974 0.0846503" rpy="-3.14159 -1.5708 0" />
<geometry>
<mesh filename="package://hc10_with_hand/meshes/agv/ow1_subaxle.stl"/>
</geometry>
<material name="ow1_subaxle_material">
<color rgba="0.301961 0.301961 0.301961 1.0"/>
</material>
</visual>
<collision>
<origin xyz="0.279374 0.0598974 0.0846503" rpy="-3.14159 -1.5708 0" />
<geometry>
<mesh filename="package://hc10_with_hand/meshes/agv/ow1_subaxle.stl"/>
</geometry>
<material name="ow1_subaxle_material">
<color rgba="0.301961 0.301961 0.301961 1.0"/>
</material>
</collision>
<visual>
<origin xyz="0.267207 0.534536 0.0145187" rpy="-1.73081 -0.158003 2.36889" />
<geometry>
<mesh filename="package://hc10_with_hand/meshes/agv/ow1_roller.stl"/>
</geometry>
<material name="ow1_roller_material">
<color rgba="0.286275 0.662745 0.329412 1.0"/>
</material>
</visual>
<collision>
<origin xyz="0.267207 0.534536 0.0145187" rpy="-1.73081 -0.158003 2.36889" />
<geometry>
<mesh filename="package://hc10_with_hand/meshes/agv/ow1_roller.stl"/>
</geometry>
<material name="ow1_roller_material">
<color rgba="0.286275 0.662745 0.329412 1.0"/>
</material>
</collision>
<visual>
<origin xyz="0.0190616 0.0772736 0.120732" rpy="1.5708 0.673198 -1.5708" />
<geometry>
<mesh filename="package://hc10_with_hand/meshes/agv/ow1_subaxle.stl"/>
</geometry>
<material name="ow1_subaxle_material">
<color rgba="0.301961 0.301961 0.301961 1.0"/>
</material>
</visual>
<collision>
<origin xyz="0.0190616 0.0772736 0.120732" rpy="1.5708 0.673198 -1.5708" />
<geometry>
<mesh filename="package://hc10_with_hand/meshes/agv/ow1_subaxle.stl"/>
</geometry>
<material name="ow1_subaxle_material">
<color rgba="0.301961 0.301961 0.301961 1.0"/>
</material>
</collision>
<visual>
<origin xyz="0.00689419 0.510811 0.160197" rpy="1.73081 -0.158003 -2.36889" />
<geometry>
<mesh filename="package://hc10_with_hand/meshes/agv/ow1_roller.stl"/>
</geometry>
<material name="ow1_roller_material">
<color rgba="0.286275 0.662745 0.329412 1.0"/>
</material>
</visual>
<collision>
<origin xyz="0.00689419 0.510811 0.160197" rpy="1.73081 -0.158003 -2.36889" />
<geometry>
<mesh filename="package://hc10_with_hand/meshes/agv/ow1_roller.stl"/>
</geometry>
<material name="ow1_roller_material">
<color rgba="0.286275 0.662745 0.329412 1.0"/>
</material>
</collision>
<visual>
<origin xyz="0.031229 0.168082 0.0412714" rpy="-0.597894 0.690706 -0.409371" />
<geometry>
<mesh filename="package://hc10_with_hand/meshes/agv/ow1_roller.stl"/>
</geometry>
<material name="ow1_roller_material">
<color rgba="0.286275 0.662745 0.329412 1.0"/>
</material>
</visual>
<collision>
<origin xyz="0.031229 0.168082 0.0412714" rpy="-0.597894 0.690706 -0.409371" />
<geometry>
<mesh filename="package://hc10_with_hand/meshes/agv/ow1_roller.stl"/>
</geometry>
<material name="ow1_roller_material">
<color rgba="0.286275 0.662745 0.329412 1.0"/>
</material>
</collision>
<visual>
<origin xyz="0.031229 0.449953 0.0338241" rpy="-2.08425 -0.456572 -0.663564" />
<geometry>
<mesh filename="package://hc10_with_hand/meshes/agv/ow1_roller.stl"/>
</geometry>
<material name="ow1_roller_material">
<color rgba="0.286275 0.662745 0.329412 1.0"/>
</material>
</visual>
<collision>
<origin xyz="0.031229 0.449953 0.0338241" rpy="-2.08425 -0.456572 -0.663564" />
<geometry>
<mesh filename="package://hc10_with_hand/meshes/agv/ow1_roller.stl"/>
</geometry>
<material name="ow1_roller_material">
<color rgba="0.286275 0.662745 0.329412 1.0"/>
</material>
</collision>
<visual>
<origin xyz="0.267207 0.0313358 0.0724829" rpy="6.43508e-15 0.785398 -3.14159" />
<geometry>
<mesh filename="package://hc10_with_hand/meshes/agv/ow1_roller.stl"/>
</geometry>
<material name="ow1_roller_material">
<color rgba="0.286275 0.662745 0.329412 1.0"/>
</material>
</visual>
<collision>
<origin xyz="0.267207 0.0313358 0.0724829" rpy="6.43508e-15 0.785398 -3.14159" />
<geometry>
<mesh filename="package://hc10_with_hand/meshes/agv/ow1_roller.stl"/>
</geometry>
<material name="ow1_roller_material">
<color rgba="0.286275 0.662745 0.329412 1.0"/>
</material>
</collision>
<visual>
<origin xyz="0.279374 0.106048 0.0846503" rpy="0 -2.22045e-16 0" />
<geometry>
<mesh filename="package://hc10_with_hand/meshes/agv/ow1_mainwheel.stl"/>
</geometry>
<material name="ow1_mainwheel_material">
<color rgba="0.101961 0.101961 0.101961 1.0"/>
</material>
</visual>
<collision>
<origin xyz="0.279374 0.106048 0.0846503" rpy="0 -2.22045e-16 0" />
<geometry>
<mesh filename="package://hc10_with_hand/meshes/agv/ow1_mainwheel.stl"/>
</geometry>
<material name="ow1_mainwheel_material">
<color rgba="0.101961 0.101961 0.101961 1.0"/>
</material>
</collision>
<visual>
<origin xyz="0.291541 0.449953 0.0338241" rpy="-2.08425 -0.456572 -0.663564" />
<geometry>
<mesh filename="package://hc10_with_hand/meshes/agv/ow1_roller.stl"/>
</geometry>
<material name="ow1_roller_material">
<color rgba="0.286275 0.662745 0.329412 1.0"/>
</material>
</visual>
<collision>
<origin xyz="0.291541 0.449953 0.0338241" rpy="-2.08425 -0.456572 -0.663564" />
<geometry>
<mesh filename="package://hc10_with_hand/meshes/agv/ow1_roller.stl"/>
</geometry>
<material name="ow1_roller_material">
<color rgba="0.286275 0.662745 0.329412 1.0"/>
</material>
</collision>
<visual>
<origin xyz="0.0190616 0.0772736 0.0485683" rpy="-1.5708 -0.673198 -1.5708" />
<geometry>
<mesh filename="package://hc10_with_hand/meshes/agv/ow1_subaxle.stl"/>
</geometry>
<material name="ow1_subaxle_material">
<color rgba="0.301961 0.301961 0.301961 1.0"/>
</material>
</visual>
<collision>
<origin xyz="0.0190616 0.0772736 0.0485683" rpy="-1.5708 -0.673198 -1.5708" />
<geometry>
<mesh filename="package://hc10_with_hand/meshes/agv/ow1_subaxle.stl"/>
</geometry>
<material name="ow1_subaxle_material">
<color rgba="0.301961 0.301961 0.301961 1.0"/>
</material>
</collision>
<visual>
<origin xyz="0.267207 0.178641 0.0631963" rpy="-2.5437 -0.690706 2.73222" />
<geometry>
<mesh filename="package://hc10_with_hand/meshes/agv/ow1_roller.stl"/>
</geometry>
<material name="ow1_roller_material">
<color rgba="0.286275 0.662745 0.329412 1.0"/>
</material>
</visual>
<collision>
<origin xyz="0.267207 0.178641 0.0631963" rpy="-2.5437 -0.690706 2.73222" />
<geometry>
<mesh filename="package://hc10_with_hand/meshes/agv/ow1_roller.stl"/>
</geometry>
<material name="ow1_roller_material">
<color rgba="0.286275 0.662745 0.329412 1.0"/>
</material>
</collision>
<visual>
<origin xyz="0.267207 0.510811 0.160197" rpy="1.73081 -0.158003 -2.36889" />
<geometry>
<mesh filename="package://hc10_with_hand/meshes/agv/ow1_roller.stl"/>
</geometry>
<material name="ow1_roller_material">
<color rgba="0.286275 0.662745 0.329412 1.0"/>
</material>
</visual>
<collision>
<origin xyz="0.267207 0.510811 0.160197" rpy="1.73081 -0.158003 -2.36889" />
<geometry>
<mesh filename="package://hc10_with_hand/meshes/agv/ow1_roller.stl"/>
</geometry>
<material name="ow1_roller_material">
<color rgba="0.286275 0.662745 0.329412 1.0"/>
</material>
</collision>
<visual>
<origin xyz="0.00689419 0.568082 0.128029" rpy="2.5437 -0.690706 -2.73222" />
<geometry>
<mesh filename="package://hc10_with_hand/meshes/agv/ow1_roller.stl"/>
</geometry>
<material name="ow1_roller_material">
<color rgba="0.286275 0.662745 0.329412 1.0"/>
</material>
</visual>
<collision>
<origin xyz="0.00689419 0.568082 0.128029" rpy="2.5437 -0.690706 -2.73222" />
<geometry>
<mesh filename="package://hc10_with_hand/meshes/agv/ow1_roller.stl"/>
</geometry>
<material name="ow1_roller_material">
<color rgba="0.286275 0.662745 0.329412 1.0"/>
</material>
</collision>
<visual>
<origin xyz="0.267207 0.568082 0.128029" rpy="2.5437 -0.690706 -2.73222" />
<geometry>
<mesh filename="package://hc10_with_hand/meshes/agv/ow1_roller.stl"/>
</geometry>
<material name="ow1_roller_material">
<color rgba="0.286275 0.662745 0.329412 1.0"/>
</material>
</visual>
<collision>
<origin xyz="0.267207 0.568082 0.128029" rpy="2.5437 -0.690706 -2.73222" />
<geometry>
<mesh filename="package://hc10_with_hand/meshes/agv/ow1_roller.stl"/>
</geometry>
<material name="ow1_roller_material">
<color rgba="0.286275 0.662745 0.329412 1.0"/>
</material>
</collision>
<visual>
<origin xyz="0.291541 0.568082 0.0412714" rpy="-0.597894 0.690706 -0.409371" />
<geometry>
<mesh filename="package://hc10_with_hand/meshes/agv/ow1_roller.stl"/>
</geometry>
<material name="ow1_roller_material">
<color rgba="0.286275 0.662745 0.329412 1.0"/>
</material>
</visual>
<collision>
<origin xyz="0.291541 0.568082 0.0412714" rpy="-0.597894 0.690706 -0.409371" />
<geometry>
<mesh filename="package://hc10_with_hand/meshes/agv/ow1_roller.stl"/>
</geometry>
<material name="ow1_roller_material">
<color rgba="0.286275 0.662745 0.329412 1.0"/>
</material>
</collision>
<visual>
<origin xyz="0.279374 0.516318 0.129644" rpy="1.5708 0.224399 1.5708" />
<geometry>
<mesh filename="package://hc10_with_hand/meshes/agv/ow1_subaxle.stl"/>
</geometry>
<material name="ow1_subaxle_material">
<color rgba="0.301961 0.301961 0.301961 1.0"/>
</material>
</visual>
<collision>
<origin xyz="0.279374 0.516318 0.129644" rpy="1.5708 0.224399 1.5708" />
<geometry>
<mesh filename="package://hc10_with_hand/meshes/agv/ow1_subaxle.stl"/>
</geometry>
<material name="ow1_subaxle_material">
<color rgba="0.301961 0.301961 0.301961 1.0"/>
</material>
</collision>
<visual>
<origin xyz="0.031229 0.178641 0.106104" rpy="0.597894 0.690706 0.409371" />
<geometry>
<mesh filename="package://hc10_with_hand/meshes/agv/ow1_roller.stl"/>
</geometry>
<material name="ow1_roller_material">
<color rgba="0.286275 0.662745 0.329412 1.0"/>
</material>
</visual>
<collision>
<origin xyz="0.031229 0.178641 0.106104" rpy="0.597894 0.690706 0.409371" />
<geometry>
<mesh filename="package://hc10_with_hand/meshes/agv/ow1_roller.stl"/>
</geometry>
<material name="ow1_roller_material">
<color rgba="0.286275 0.662745 0.329412 1.0"/>
</material>
</collision>
<visual>
<origin xyz="0.00689419 0.468979 0.0186516" rpy="-1.05734 0.456572 2.47803" />
<geometry>
<mesh filename="package://hc10_with_hand/meshes/agv/ow1_roller.stl"/>
</geometry>
<material name="ow1_roller_material">
<color rgba="0.286275 0.662745 0.329412 1.0"/>
</material>
</visual>
<collision>
<origin xyz="0.00689419 0.468979 0.0186516" rpy="-1.05734 0.456572 2.47803" />
<geometry>
<mesh filename="package://hc10_with_hand/meshes/agv/ow1_roller.stl"/>
</geometry>
<material name="ow1_roller_material">
<color rgba="0.286275 0.662745 0.329412 1.0"/>
</material>
</collision>
<visual>
<origin xyz="0.291541 0.168082 0.0412714" rpy="-0.597894 0.690706 -0.409371" />
<geometry>
<mesh filename="package://hc10_with_hand/meshes/agv/ow1_roller.stl"/>
</geometry>
<material name="ow1_roller_material">
<color rgba="0.286275 0.662745 0.329412 1.0"/>
</material>
</visual>
<collision>
<origin xyz="0.291541 0.168082 0.0412714" rpy="-0.597894 0.690706 -0.409371" />
<geometry>
<mesh filename="package://hc10_with_hand/meshes/agv/ow1_roller.stl"/>
</geometry>
<material name="ow1_roller_material">
<color rgba="0.286275 0.662745 0.329412 1.0"/>
</material>
</collision>
<visual>
<origin xyz="0.149218 0.00604812 0.00465032" rpy="0 -0 0" />
<geometry>
<mesh filename="package://hc10_with_hand/meshes/agv/part_2.stl"/>
</geometry>
<material name="part_2_material">
<color rgba="0.282353 0.54902 0.160784 1.0"/>
</material>
</visual>
<collision>
<origin xyz="0.149218 0.00604812 0.00465032" rpy="0 -0 0" />
<geometry>
<mesh filename="package://hc10_with_hand/meshes/agv/part_2.stl"/>
</geometry>
<material name="part_2_material">
<color rgba="0.282353 0.54902 0.160784 1.0"/>
</material>
</collision>
<visual>
<origin xyz="0.031229 0.134536 0.154782" rpy="1.41078 0.158003 0.772704" />
<geometry>
<mesh filename="package://hc10_with_hand/meshes/agv/ow1_roller.stl"/>
</geometry>
<material name="ow1_roller_material">
<color rgba="0.286275 0.662745 0.329412 1.0"/>
</material>
</visual>
<collision>
<origin xyz="0.031229 0.134536 0.154782" rpy="1.41078 0.158003 0.772704" />
<geometry>
<mesh filename="package://hc10_with_hand/meshes/agv/ow1_roller.stl"/>
</geometry>
<material name="ow1_roller_material">
<color rgba="0.286275 0.662745 0.329412 1.0"/>
</material>
</collision>
<visual>
<origin xyz="0.279374 0.477274 0.0485683" rpy="-1.5708 -0.673198 -1.5708" />
<geometry>
<mesh filename="package://hc10_with_hand/meshes/agv/ow1_subaxle.stl"/>
</geometry>
<material name="ow1_subaxle_material">
<color rgba="0.301961 0.301961 0.301961 1.0"/>
</material>
</visual>
<collision>
<origin xyz="0.279374 0.477274 0.0485683" rpy="-1.5708 -0.673198 -1.5708" />
<geometry>
<mesh filename="package://hc10_with_hand/meshes/agv/ow1_subaxle.stl"/>
</geometry>
<material name="ow1_subaxle_material">
<color rgba="0.301961 0.301961 0.301961 1.0"/>
</material>
</collision>
<visual>
<origin xyz="0.0190616 0.106048 0.0846503" rpy="0 2.22045e-16 0" />
<geometry>
<mesh filename="package://hc10_with_hand/meshes/agv/ow1_mainwheel.stl"/>
</geometry>
<material name="ow1_mainwheel_material">
<color rgba="0.101961 0.101961 0.101961 1.0"/>
</material>
</visual>
<collision>
<origin xyz="0.0190616 0.106048 0.0846503" rpy="0 2.22045e-16 0" />
<geometry>
<mesh filename="package://hc10_with_hand/meshes/agv/ow1_mainwheel.stl"/>
</geometry>
<material name="ow1_mainwheel_material">
<color rgba="0.101961 0.101961 0.101961 1.0"/>
</material>
</collision>
<visual>
<origin xyz="0.279374 0.147628 0.0646263" rpy="-1.5708 1.122 -1.5708" />
<geometry>
<mesh filename="package://hc10_with_hand/meshes/agv/ow1_subaxle.stl"/>
</geometry>
<material name="ow1_subaxle_material">
<color rgba="0.301961 0.301961 0.301961 1.0"/>
</material>
</visual>
<collision>
<origin xyz="0.279374 0.147628 0.0646263" rpy="-1.5708 1.122 -1.5708" />
<geometry>
<mesh filename="package://hc10_with_hand/meshes/agv/ow1_subaxle.stl"/>
</geometry>
<material name="ow1_subaxle_material">
<color rgba="0.301961 0.301961 0.301961 1.0"/>
</material>
</collision>
<visual>
<origin xyz="0.291541 0.178641 0.106104" rpy="0.597894 0.690706 0.409371" />
<geometry>
<mesh filename="package://hc10_with_hand/meshes/agv/ow1_roller.stl"/>
</geometry>
<material name="ow1_roller_material">
<color rgba="0.286275 0.662745 0.329412 1.0"/>
</material>
</visual>
<collision>
<origin xyz="0.291541 0.178641 0.106104" rpy="0.597894 0.690706 0.409371" />
<geometry>
<mesh filename="package://hc10_with_hand/meshes/agv/ow1_roller.stl"/>
</geometry>
<material name="ow1_roller_material">
<color rgba="0.286275 0.662745 0.329412 1.0"/>
</material>
</collision>
<visual>
<origin xyz="0.0190616 0.116318 0.129644" rpy="1.5708 0.224399 1.5708" />
<geometry>
<mesh filename="package://hc10_with_hand/meshes/agv/ow1_subaxle.stl"/>
</geometry>
<material name="ow1_subaxle_material">
<color rgba="0.301961 0.301961 0.301961 1.0"/>
</material>
</visual>
<collision>
<origin xyz="0.0190616 0.116318 0.129644" rpy="1.5708 0.224399 1.5708" />
<geometry>
<mesh filename="package://hc10_with_hand/meshes/agv/ow1_subaxle.stl"/>
</geometry>
<material name="ow1_subaxle_material">
<color rgba="0.301961 0.301961 0.301961 1.0"/>
</material>
</collision>
<visual>
<origin xyz="0.291541 0.578641 0.106104" rpy="0.597894 0.690706 0.409371" />
<geometry>
<mesh filename="package://hc10_with_hand/meshes/agv/ow1_roller.stl"/>
</geometry>
<material name="ow1_roller_material">
<color rgba="0.286275 0.662745 0.329412 1.0"/>
</material>
</visual>
<collision>
<origin xyz="0.291541 0.578641 0.106104" rpy="0.597894 0.690706 0.409371" />
<geometry>
<mesh filename="package://hc10_with_hand/meshes/agv/ow1_roller.stl"/>
</geometry>
<material name="ow1_roller_material">
<color rgba="0.286275 0.662745 0.329412 1.0"/>
</material>
</collision>
<visual>
<origin xyz="0.291541 0.0313358 0.0968177" rpy="-3.14159 -0.785398 -9.10058e-15" />
<geometry>
<mesh filename="package://hc10_with_hand/meshes/agv/ow1_roller.stl"/>
</geometry>
<material name="ow1_roller_material">
<color rgba="0.286275 0.662745 0.329412 1.0"/>
</material>
</visual>
<collision>
<origin xyz="0.291541 0.0313358 0.0968177" rpy="-3.14159 -0.785398 -9.10058e-15" />
<geometry>
<mesh filename="package://hc10_with_hand/meshes/agv/ow1_roller.stl"/>
</geometry>
<material name="ow1_roller_material">
<color rgba="0.286275 0.662745 0.329412 1.0"/>
</material>
</collision>
<visual>
<origin xyz="0.031229 0.510811 0.00910365" rpy="-1.41078 0.158003 -0.772704" />
<geometry>
<mesh filename="package://hc10_with_hand/meshes/agv/ow1_roller.stl"/>
</geometry>
<material name="ow1_roller_material">
<color rgba="0.286275 0.662745 0.329412 1.0"/>
</material>
</visual>
<collision>
<origin xyz="0.031229 0.510811 0.00910365" rpy="-1.41078 0.158003 -0.772704" />
<geometry>
<mesh filename="package://hc10_with_hand/meshes/agv/ow1_roller.stl"/>
</geometry>
<material name="ow1_roller_material">
<color rgba="0.286275 0.662745 0.329412 1.0"/>
</material>
</collision>
<visual>
<origin xyz="0.279374 0.516318 0.0396567" rpy="-1.5708 -0.224399 1.5708" />
<geometry>
<mesh filename="package://hc10_with_hand/meshes/agv/ow1_subaxle.stl"/>
</geometry>
<material name="ow1_subaxle_material">
<color rgba="0.301961 0.301961 0.301961 1.0"/>
</material>
</visual>
<collision>
<origin xyz="0.279374 0.516318 0.0396567" rpy="-1.5708 -0.224399 1.5708" />
<geometry>
<mesh filename="package://hc10_with_hand/meshes/agv/ow1_subaxle.stl"/>
</geometry>
<material name="ow1_subaxle_material">
<color rgba="0.301961 0.301961 0.301961 1.0"/>
</material>
</collision>
<visual>
<origin xyz="0.0190616 0.547628 0.104674" rpy="1.5708 1.122 1.5708" />
<geometry>
<mesh filename="package://hc10_with_hand/meshes/agv/ow1_subaxle.stl"/>
</geometry>
<material name="ow1_subaxle_material">
<color rgba="0.301961 0.301961 0.301961 1.0"/>
</material>
</visual>
<collision>
<origin xyz="0.0190616 0.547628 0.104674" rpy="1.5708 1.122 1.5708" />
<geometry>
<mesh filename="package://hc10_with_hand/meshes/agv/ow1_subaxle.stl"/>
</geometry>
<material name="ow1_subaxle_material">
<color rgba="0.301961 0.301961 0.301961 1.0"/>
</material>
</collision>
<visual>
<origin xyz="0.279374 0.459897 0.0846503" rpy="-3.14159 -1.5708 0" />
<geometry>
<mesh filename="package://hc10_with_hand/meshes/agv/ow1_subaxle.stl"/>
</geometry>
<material name="ow1_subaxle_material">
<color rgba="0.301961 0.301961 0.301961 1.0"/>
</material>
</visual>
<collision>
<origin xyz="0.279374 0.459897 0.0846503" rpy="-3.14159 -1.5708 0" />
<geometry>
<mesh filename="package://hc10_with_hand/meshes/agv/ow1_subaxle.stl"/>
</geometry>
<material name="ow1_subaxle_material">
<color rgba="0.301961 0.301961 0.301961 1.0"/>
</material>
</collision>
<visual>
<origin xyz="0.00689419 0.134536 0.0145187" rpy="-1.73081 -0.158003 2.36889" />
<geometry>
<mesh filename="package://hc10_with_hand/meshes/agv/ow1_roller.stl"/>
</geometry>
<material name="ow1_roller_material">
<color rgba="0.286275 0.662745 0.329412 1.0"/>
</material>
</visual>
<collision>
<origin xyz="0.00689419 0.134536 0.0145187" rpy="-1.73081 -0.158003 2.36889" />
<geometry>
<mesh filename="package://hc10_with_hand/meshes/agv/ow1_roller.stl"/>
</geometry>
<material name="ow1_roller_material">
<color rgba="0.286275 0.662745 0.329412 1.0"/>
</material>
</collision>
<visual>
<origin xyz="0.279374 0.547628 0.0646263" rpy="-1.5708 1.122 -1.5708" />
<geometry>
<mesh filename="package://hc10_with_hand/meshes/agv/ow1_subaxle.stl"/>
</geometry>
<material name="ow1_subaxle_material">
<color rgba="0.301961 0.301961 0.301961 1.0"/>
</material>
</visual>
<collision>
<origin xyz="0.279374 0.547628 0.0646263" rpy="-1.5708 1.122 -1.5708" />
<geometry>
<mesh filename="package://hc10_with_hand/meshes/agv/ow1_subaxle.stl"/>
</geometry>
<material name="ow1_subaxle_material">
<color rgba="0.301961 0.301961 0.301961 1.0"/>
</material>
</collision>
<visual>
<origin xyz="0.279374 0.0772736 0.0485683" rpy="-1.5708 -0.673198 -1.5708" />
<geometry>
<mesh filename="package://hc10_with_hand/meshes/agv/ow1_subaxle.stl"/>
</geometry>
<material name="ow1_subaxle_material">
<color rgba="0.301961 0.301961 0.301961 1.0"/>
</material>
</visual>
<collision>
<origin xyz="0.279374 0.0772736 0.0485683" rpy="-1.5708 -0.673198 -1.5708" />
<geometry>
<mesh filename="package://hc10_with_hand/meshes/agv/ow1_subaxle.stl"/>
</geometry>
<material name="ow1_subaxle_material">
<color rgba="0.301961 0.301961 0.301961 1.0"/>
</material>
</collision>
<inertial>
<origin xyz="0.149218 0.306048 0.262344" rpy="0 0 0"/>
<mass value="229.534" />
<inertia ixx="11.3933" ixy="-2.98406e-11"  ixz="-4.54221e-06" iyy="6.44553" iyz="-4.48598e-07" izz="8.70738" />
</inertial>
</link>

<link name="arm_position">
<inertial>
<origin xyz="0 0 0" rpy="0 0 0" />
<mass value="1e-9" />
<inertia ixx="0" ixy="0" ixz="0" iyy="0" iyz="0" izz="0" />
</inertial>
</link>
<joint name="arm_position_frame" type="fixed">
<origin xyz="0.149218 0.186128 0.50465" rpy="0 -0 1.5708" />
<parent link="part_1" />
<child link="arm_position" />
<axis xyz="0 0 0"/>
</joint>


</robot>
